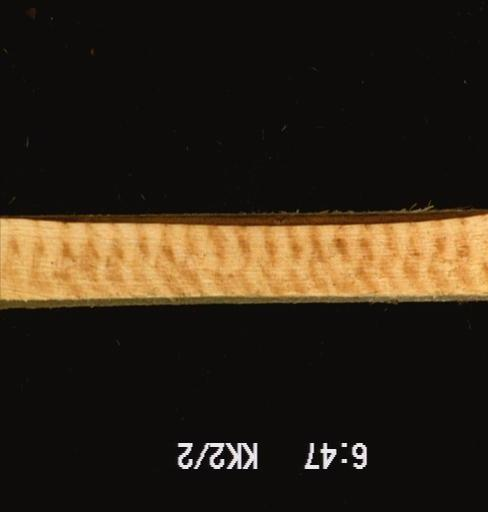wave: (0, 209, 486, 227)
